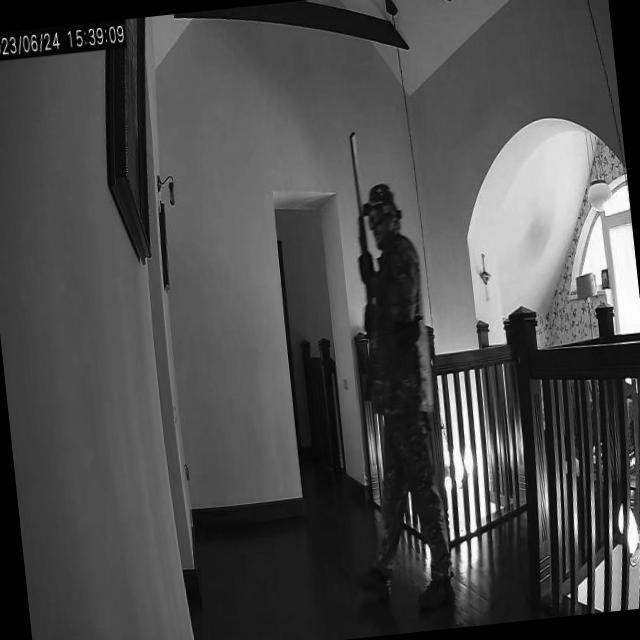gun: (338, 131, 390, 418)
person with a gun: (320, 125, 459, 612)
